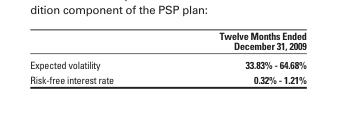table: (29, 29, 305, 85)
table column: (165, 29, 305, 85), (29, 29, 165, 85)
table column header: (29, 29, 305, 55)
table row: (29, 29, 305, 55), (29, 55, 305, 72), (29, 72, 305, 85)
